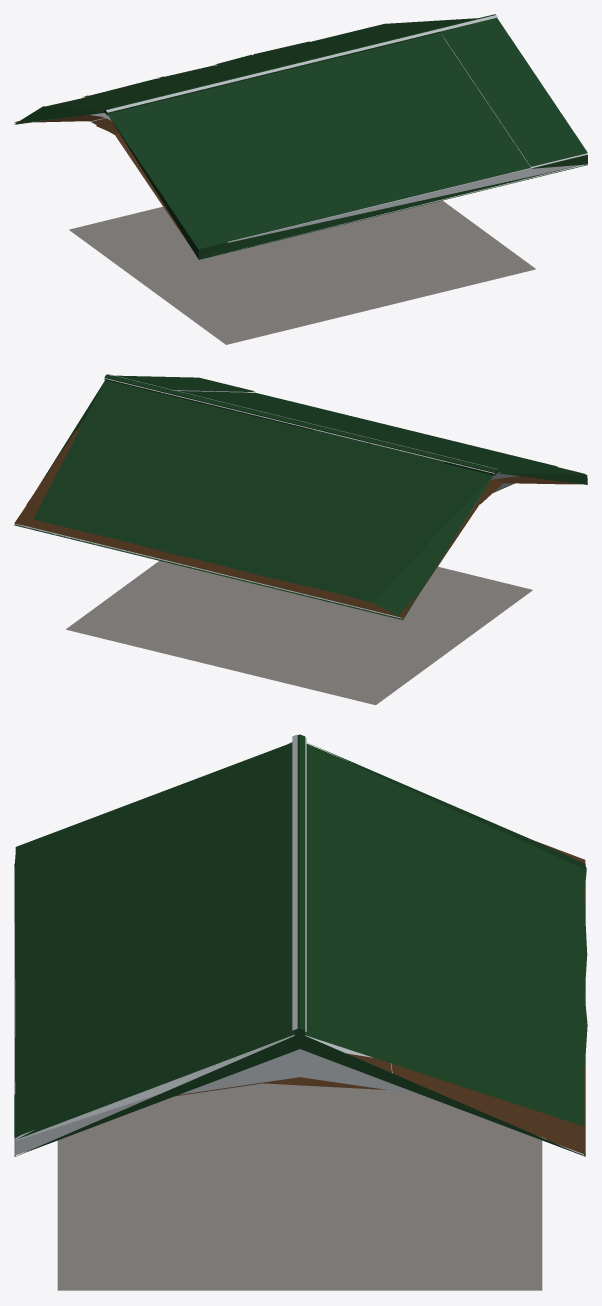
The model's file is rest-shelter.zfix-v14.lod2.glb.
3 renders of one model, top to bottom at view 1: azimuth 30°, elevation 25°; view 2: azimuth 150°, elevation 25°; view 3: azimuth 270°, elevation 25°, orthographic. The views are drawn at different scales.
Visible parts, largest first — view 1: Material2; view 2: Material2; view 3: Material2.
Boxes of the visible parts, x1=… form: Material2: x1=14, y1=14, x2=587, y2=344; Material2: x1=14, y1=374, x2=587, y2=705; Material2: x1=14, y1=734, x2=587, y2=1290.
Bounding box in the file's own units: 10.35 × 4.78 × 8.53.
